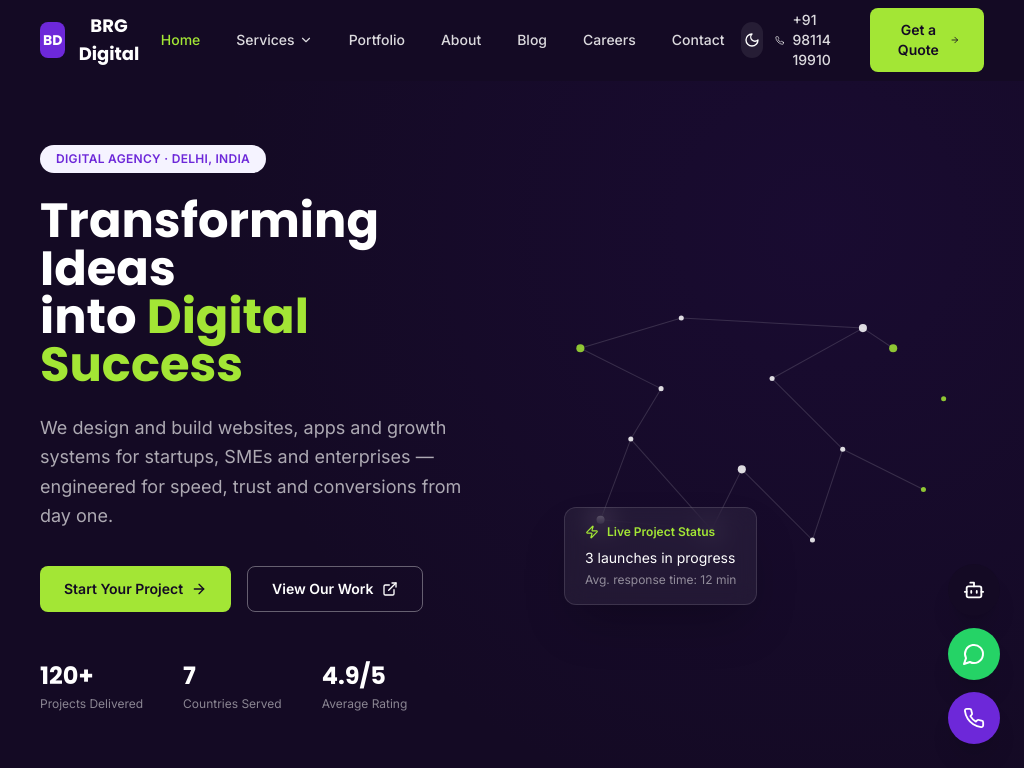
Test case: Live status indicator › also appears on a country landing page, tied to time-zone messaging
This screenshot has width=1024, height=768.
Step 1. Click the button "About" → (461, 40), box [425,22,497,58]
(page scrolled)
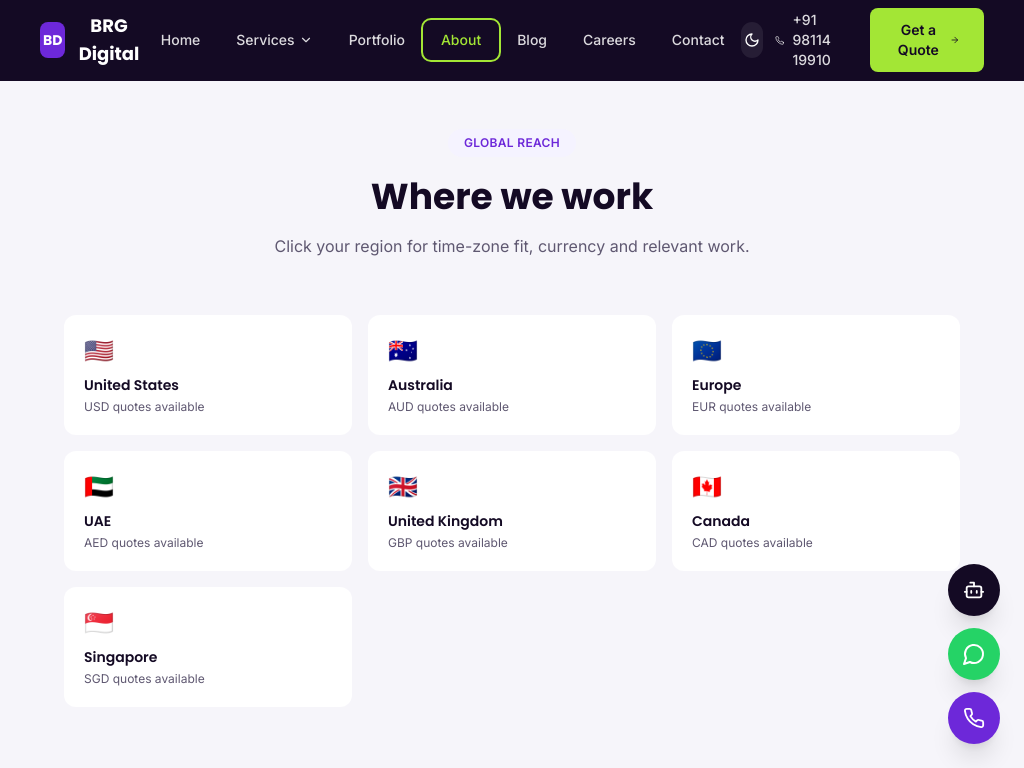
Step 2. Click the text "United States" → (132, 384), box [84,374,179,394]
(page scrolled)
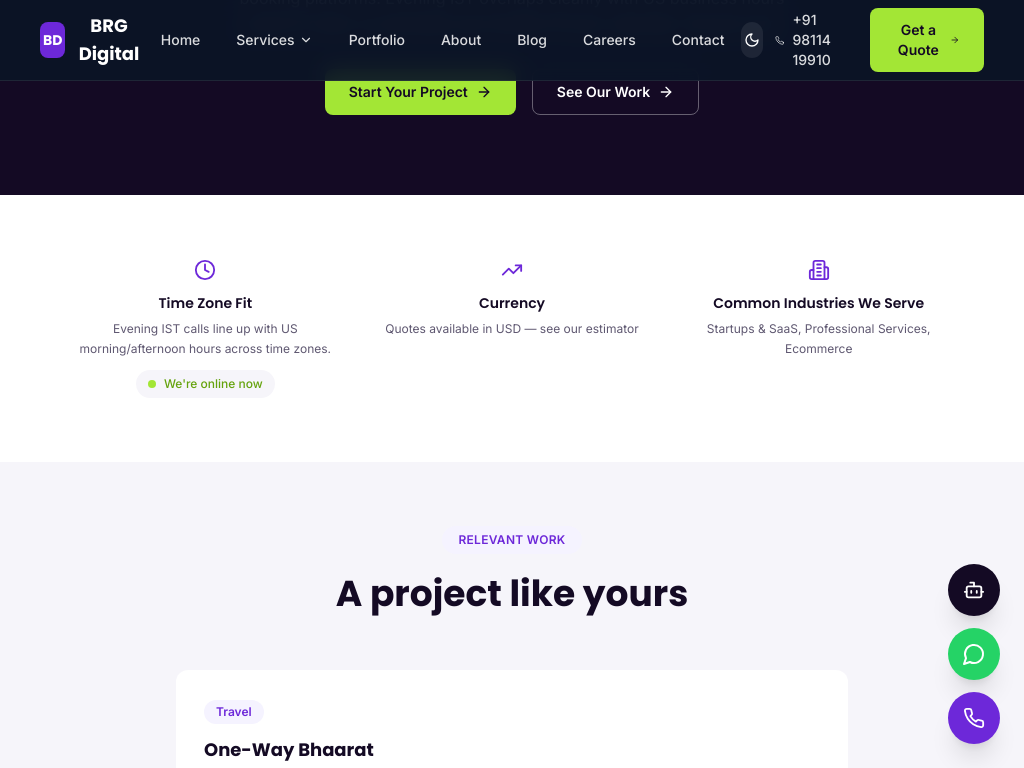
Expected: the text "We're online now" is shown, [136,370,275,398]
